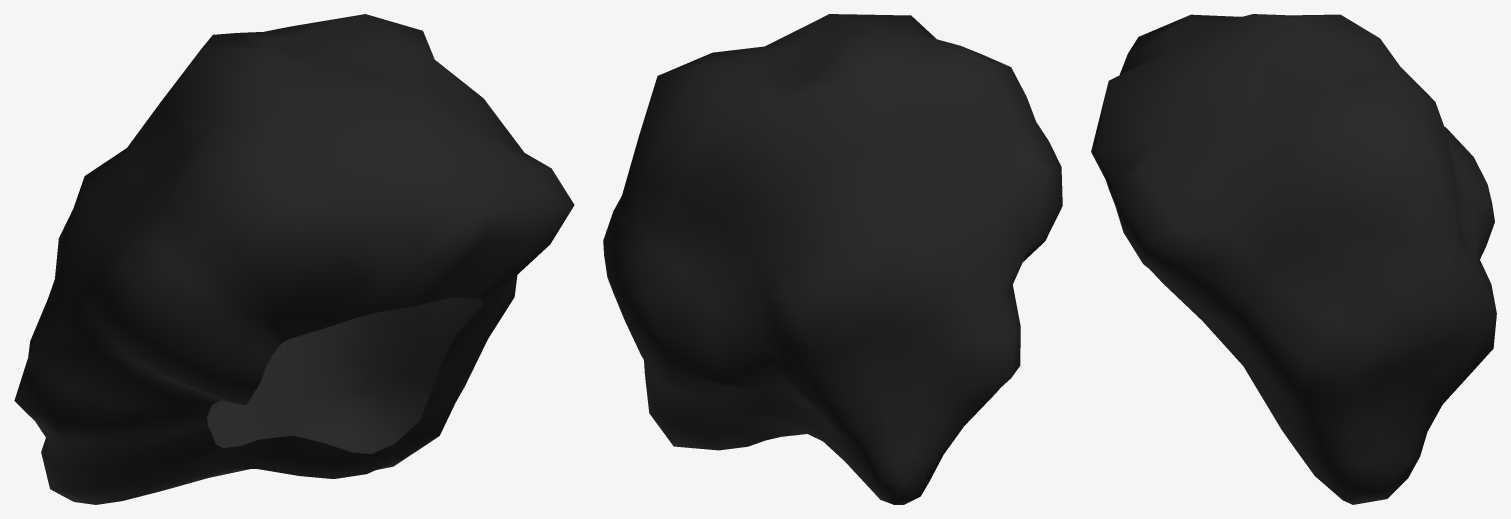
The model's file is Hair_007.glb.
3 renders of one model, left to right at view 1: azimuth 30°, elevation 25°; view 2: azimuth 150°, elevation 25°; view 3: azimuth 270°, elevation 25°, orthographic. The views are drawn at different scales.
Visible parts, largest first — view 1: Hair_007; view 2: Hair_007; view 3: Hair_007.
Part boxes in pixels (<box>): Hair_007: <box>14,14,574,504</box>; Hair_007: <box>603,14,1062,504</box>; Hair_007: <box>1091,14,1496,504</box>.
Bounding box in the file's own units: 0.5716 × 0.5484 × 0.4802.
Materials: 1 (1 with a texture image).
